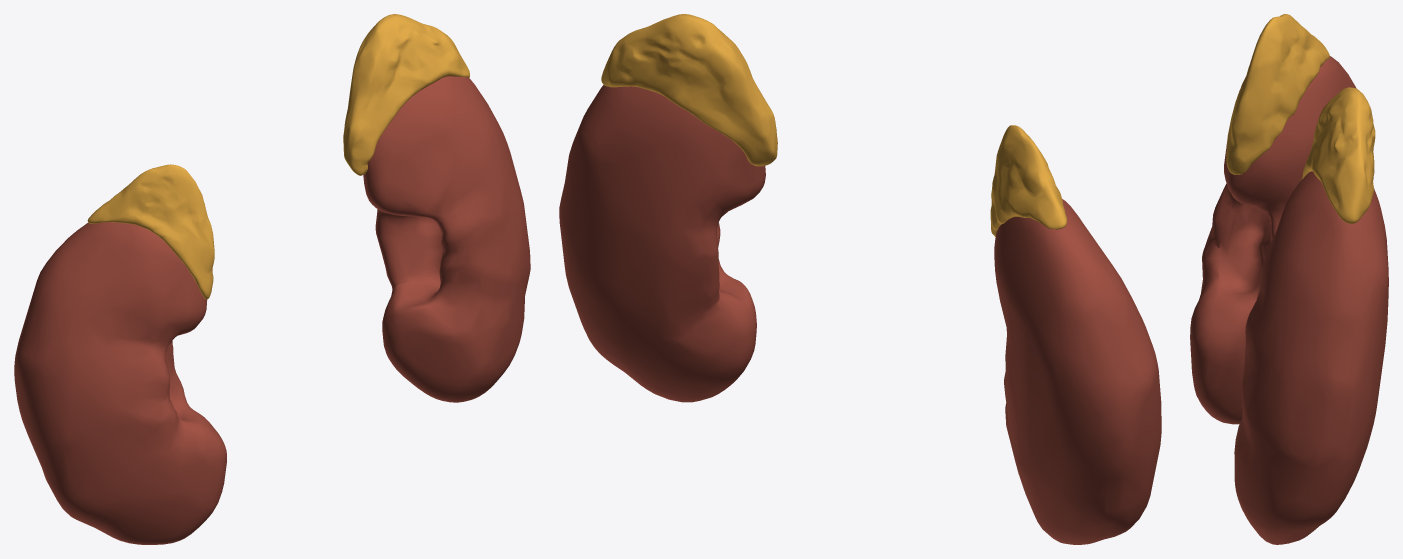
Rendered from kidneys-adrenals.glb.
The picture shows the model from 3 angles, left to right: view 1: azimuth 30°, elevation 25°; view 2: azimuth 150°, elevation 25°; view 3: azimuth 270°, elevation 25°; orthographic projection. The views are drawn at different scales.
Visible parts, largest first — view 1: right_kidney, left_kidney, left_adrenal_gland, right_adrenal_gland; view 2: left_kidney, right_kidney, left_adrenal_gland, right_adrenal_gland; view 3: left_kidney, right_kidney, right_adrenal_gland, left_adrenal_gland.
Boxes of the visible parts, <box> form: right_kidney: <box>14,222,226,544</box>; left_kidney: <box>363,76,530,402</box>; left_adrenal_gland: <box>343,14,469,175</box>; right_adrenal_gland: <box>87,164,214,299</box>; left_kidney: <box>559,85,765,402</box>; right_kidney: <box>994,199,1161,544</box>; left_adrenal_gland: <box>601,14,777,166</box>; right_adrenal_gland: <box>990,125,1066,236</box>; left_kidney: <box>1234,171,1388,544</box>; right_kidney: <box>1190,56,1356,424</box>; right_adrenal_gland: <box>1226,14,1329,174</box>; left_adrenal_gland: <box>1301,87,1375,223</box>.
Size of the model in its own units: 0.178 by 0.1414 by 0.0523.
